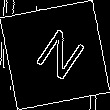N_SW: (24, 23, 86, 87)
